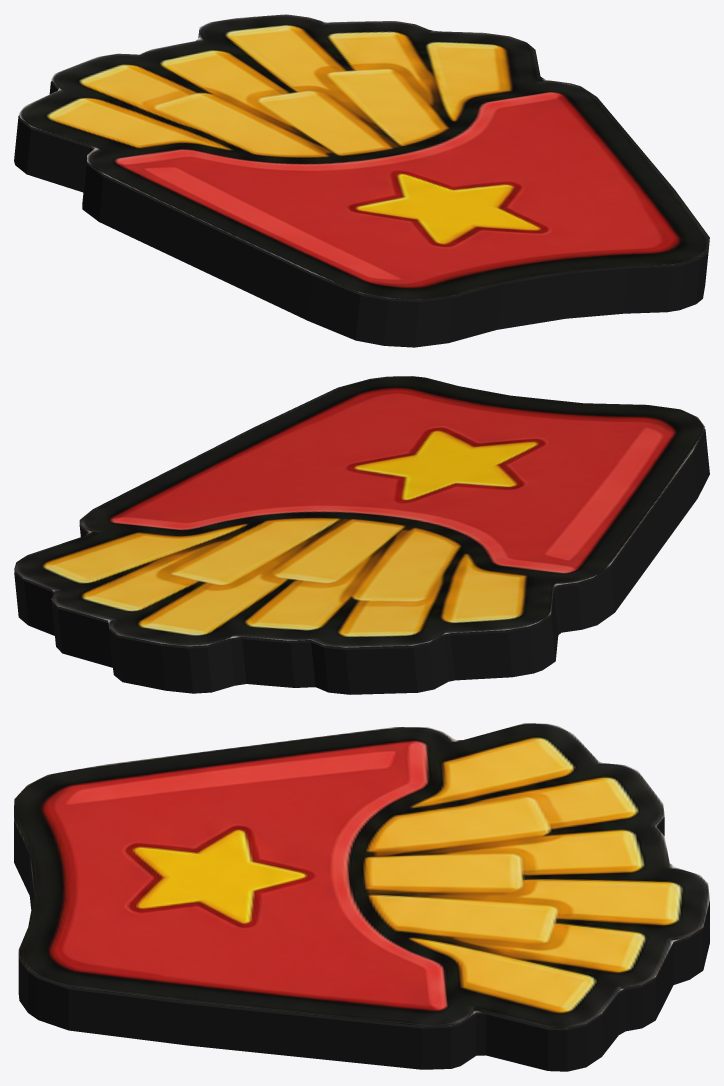
File: food-french-fries.glb
3 views of the same model, one above another, from view 1: azimuth 30°, elevation 25°; view 2: azimuth 150°, elevation 25°; view 3: azimuth 270°, elevation 25° (orthographic).
Parts seen in each view (by area): view 1: FOOD_French_Fries_MODEL; view 2: FOOD_French_Fries_MODEL; view 3: FOOD_French_Fries_MODEL.
Boxes of the visible parts, bbox=[...] form: FOOD_French_Fries_MODEL: bbox=[14, 14, 709, 347]; FOOD_French_Fries_MODEL: bbox=[14, 376, 709, 694]; FOOD_French_Fries_MODEL: bbox=[14, 723, 709, 1071].
Size of the model in its own units: 0.3141 by 0.0999 by 0.3687.
3 materials, 1 textured.
